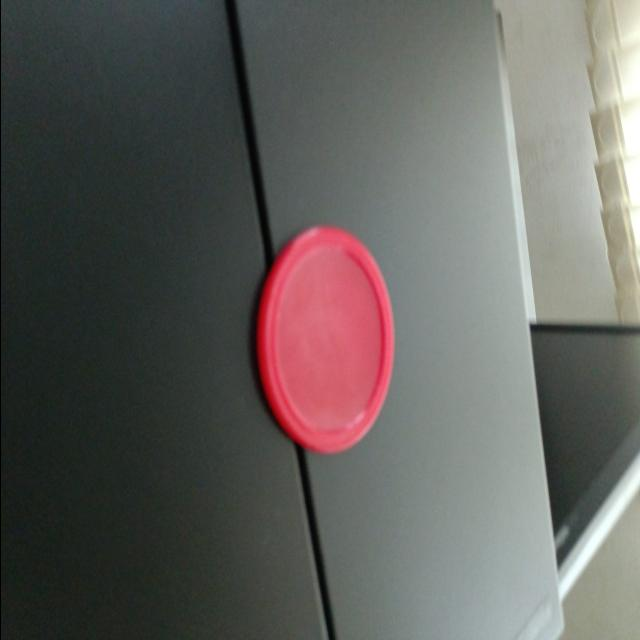chip: (254, 223, 396, 456)
